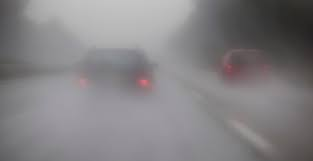car: (78, 45, 158, 106), (218, 50, 273, 90)
